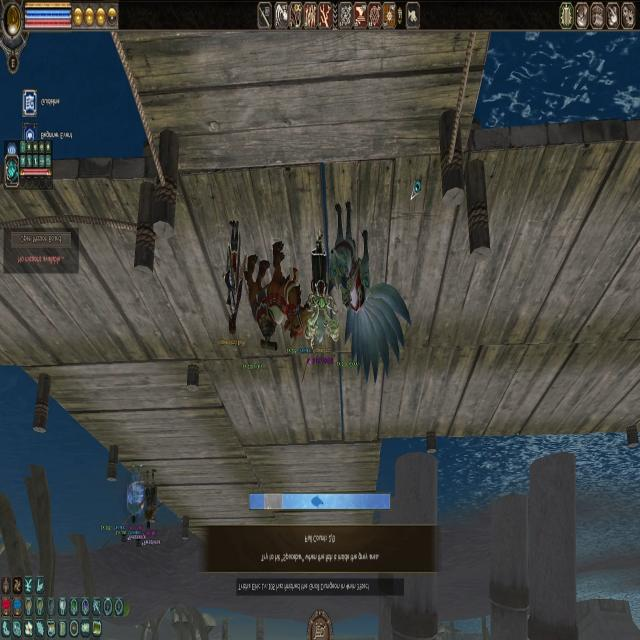fishes: (311, 496, 324, 508)
